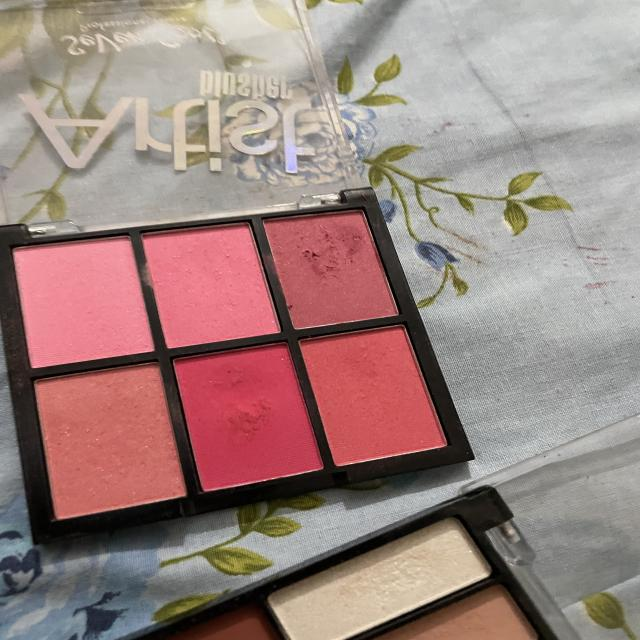blush: (22, 364, 199, 527), (280, 319, 465, 465), (171, 339, 333, 498), (1, 231, 158, 380), (248, 202, 414, 335), (132, 215, 292, 348)
